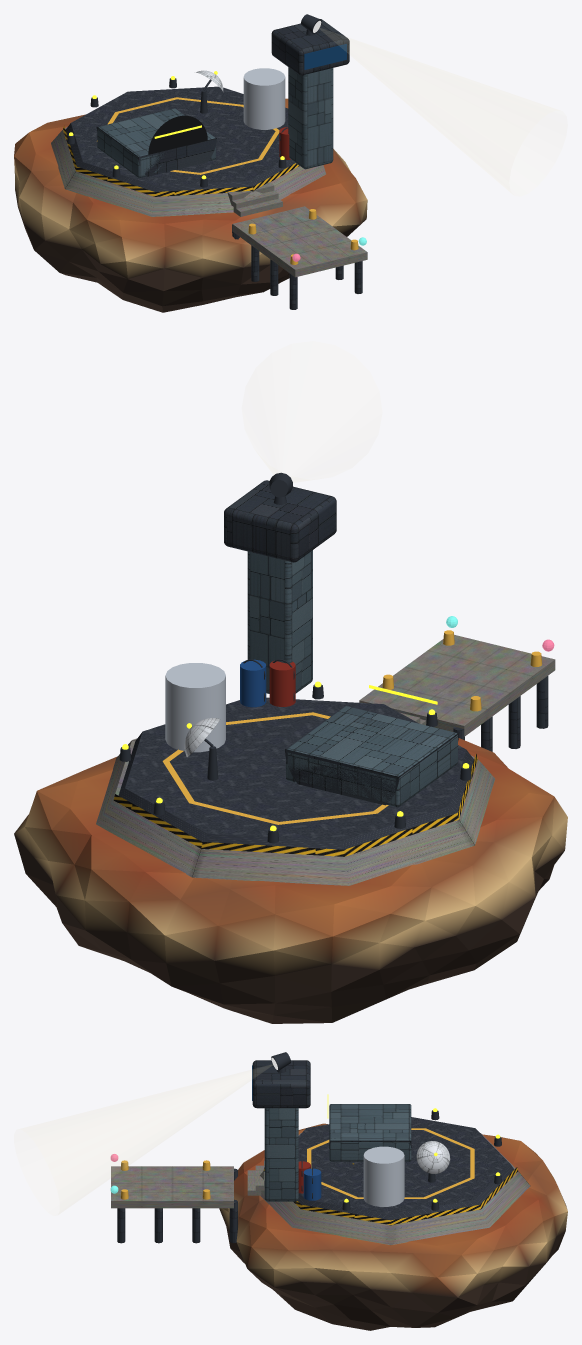
Rendered from garrison-L50.glb.
3 renders of one model, top to bottom at view 1: azimuth 30°, elevation 25°; view 2: azimuth 150°, elevation 25°; view 3: azimuth 270°, elevation 25°, orthographic. The views are drawn at different scales.
Visible parts, largest first — view 1: object 1, object 4, object 25, object 2, object 49, object 38, object 48, object 50, object 39, object 40, object 3, object 5 (+3 smaller); view 2: object 1, object 4, object 2, object 38, object 25, object 49, object 50, object 48, object 39, object 3, object 5, object 45 (+1 smaller); view 3: object 1, object 4, object 2, object 25, object 38, object 49, object 50, object 48, object 3, anim:rot, object 5, object 45.
Boxes of the visible parts, left/top/right/bottom form: object 1: left=14, top=98, right=367, bottom=312; object 4: left=65, top=86, right=295, bottom=191; object 25: left=232, top=206, right=367, bottom=277; object 2: left=51, top=127, right=325, bottom=216; object 49: left=288, top=67, right=333, bottom=169; object 38: left=97, top=108, right=215, bottom=177; object 48: left=243, top=68, right=285, bottom=129; object 50: left=271, top=19, right=349, bottom=75; object 39: left=96, top=127, right=216, bottom=176; object 40: left=148, top=115, right=207, bottom=154; object 3: left=63, top=126, right=299, bottom=196; object 5: left=97, top=97, right=279, bottom=174; object 1: left=14, top=738, right=567, bottom=1023; object 4: left=118, top=697, right=473, bottom=849; object 2: left=96, top=738, right=495, bottom=885; object 38: left=286, top=706, right=457, bottom=807; object 25: left=359, top=634, right=555, bottom=736; object 49: left=247, top=550, right=312, bottom=693; object 50: left=224, top=480, right=336, bottom=562; object 48: left=165, top=663, right=225, bottom=752; object 39: left=285, top=732, right=459, bottom=805; object 3: left=113, top=753, right=477, bottom=856; object 5: left=162, top=712, right=388, bottom=824; object 45: left=240, top=659, right=266, bottom=707; object 1: left=219, top=1123, right=567, bottom=1330; object 4: left=298, top=1117, right=514, bottom=1220; object 2: left=260, top=1133, right=530, bottom=1245; object 25: left=111, top=1166, right=233, bottom=1208; object 38: left=329, top=1104, right=411, bottom=1161; object 49: left=264, top=1108, right=298, bottom=1201; object 50: left=252, top=1060, right=310, bottom=1108; object 48: left=363, top=1146, right=404, bottom=1206; object 3: left=263, top=1167, right=517, bottom=1224; anim:rot: left=416, top=1141, right=450, bottom=1173; object 5: left=307, top=1128, right=474, bottom=1198; object 45: left=303, top=1168, right=321, bottom=1200.
Bounding box in the file's own units: 6 × 4.47 × 8.12.
22 materials, 7 textured.
